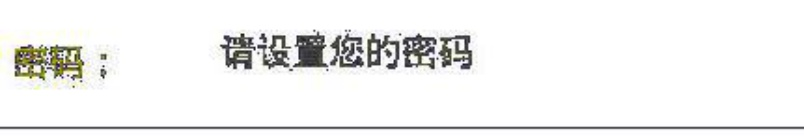EditText: (1, 1, 803, 139)
